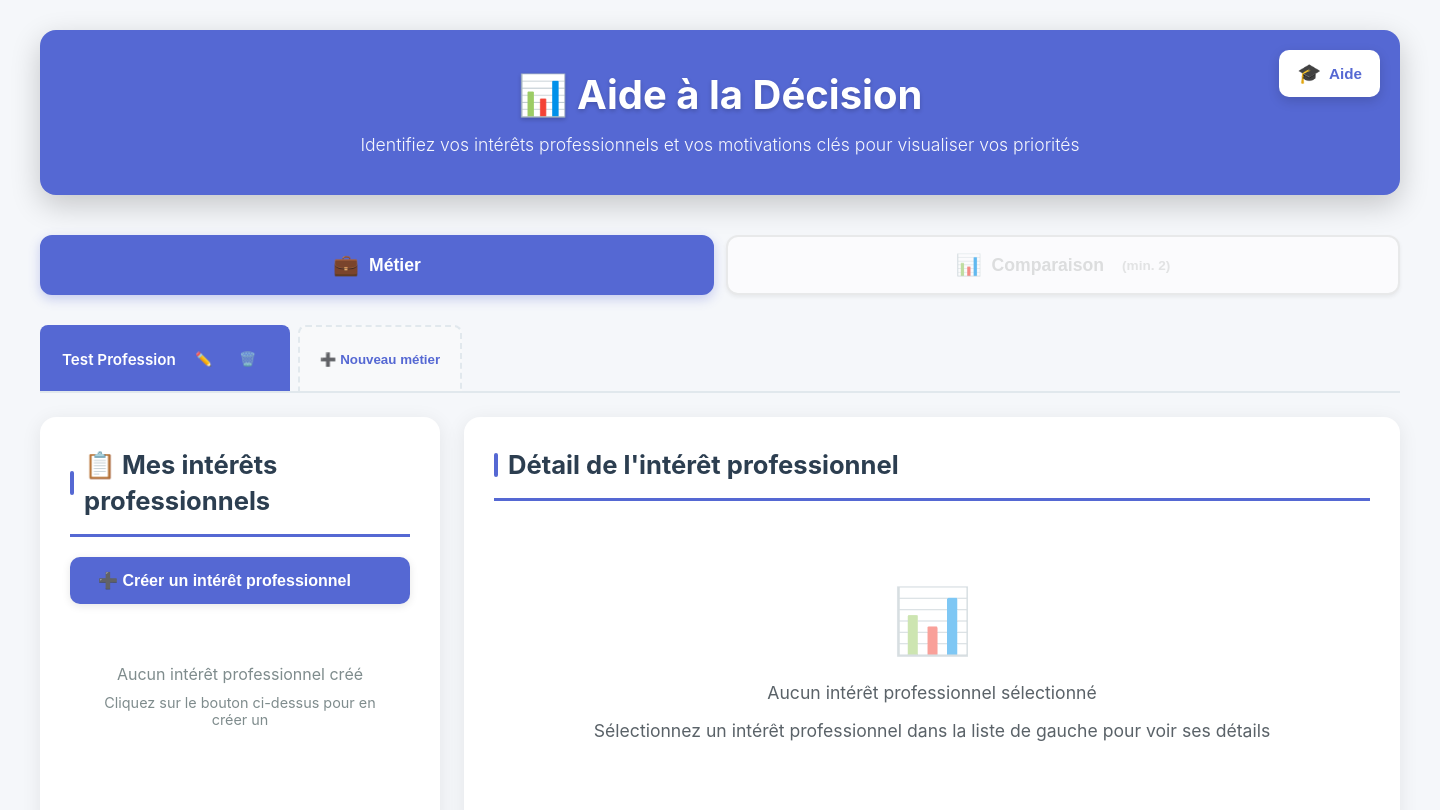
Test case: App › should show error when trying to delete last profession with data
Expected: the text "Test Profession" is shown, [62, 350, 176, 368]
Step 1. Click the button named "supprimer le métier" → (248, 359), box [228, 339, 268, 379]
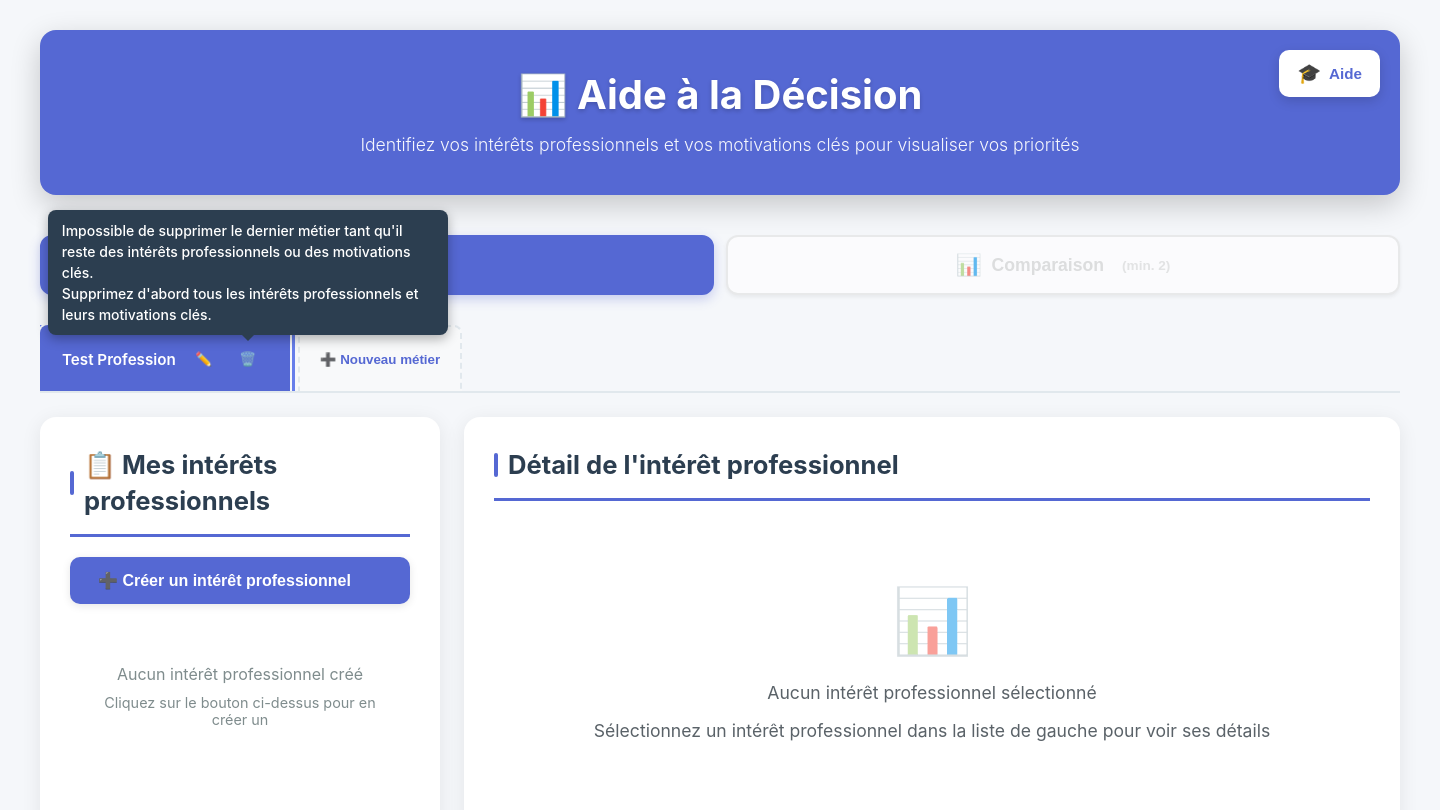
Now the text "Impossible de supprimer le dernier métier" is shown, box [62, 222, 418, 323]
